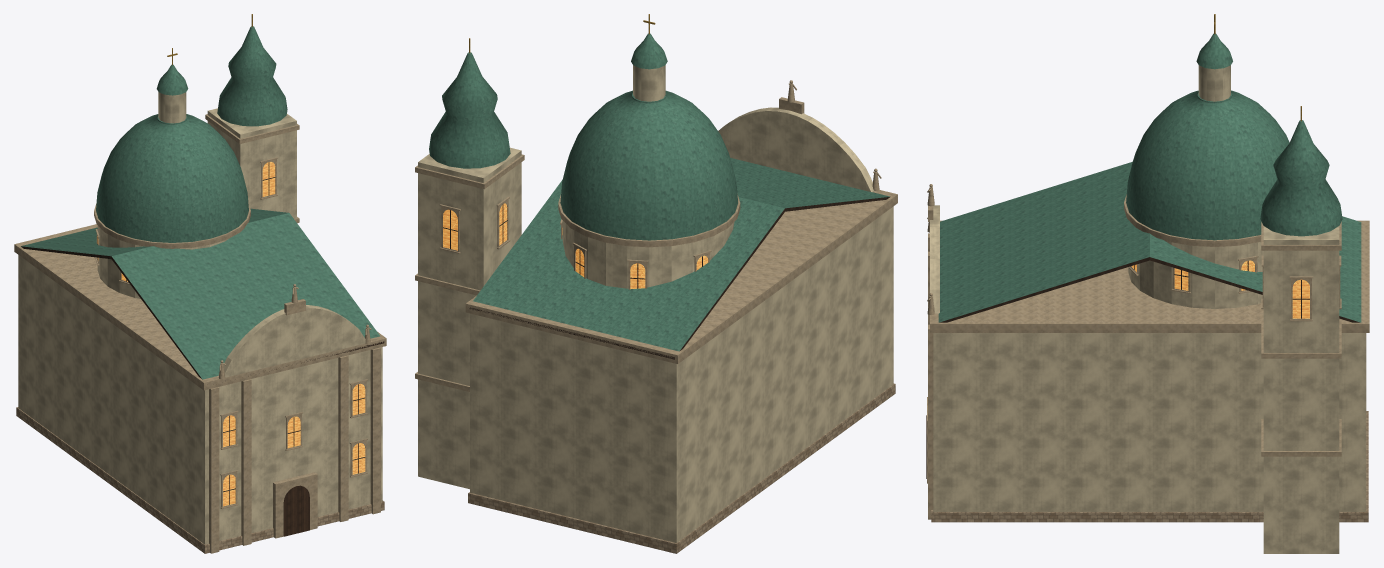
The model's file is st_nicholas.gltf.
The picture shows the model from 3 angles, left to right: view 1: azimuth 30°, elevation 25°; view 2: azimuth 150°, elevation 25°; view 3: azimuth 270°, elevation 25°; orthographic projection. The views are drawn at different scales.
Parts seen in each view (by area): view 1: st_nicholas_mesh; view 2: st_nicholas_mesh; view 3: st_nicholas_mesh.
Boxes of the visible parts, left/top/right/bottom form: st_nicholas_mesh: left=14, top=14, right=386, bottom=553; st_nicholas_mesh: left=415, top=14, right=897, bottom=553; st_nicholas_mesh: left=926, top=14, right=1369, bottom=553.
Size of what is drawn, in the model's own units: 29.6 by 46.6 by 40.95.
9 materials, 9 textured.
